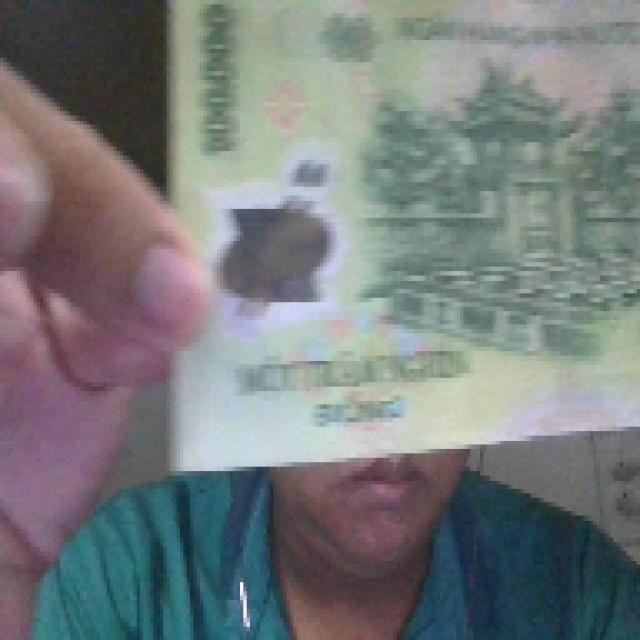100 000 VND: (149, 0, 625, 471)
